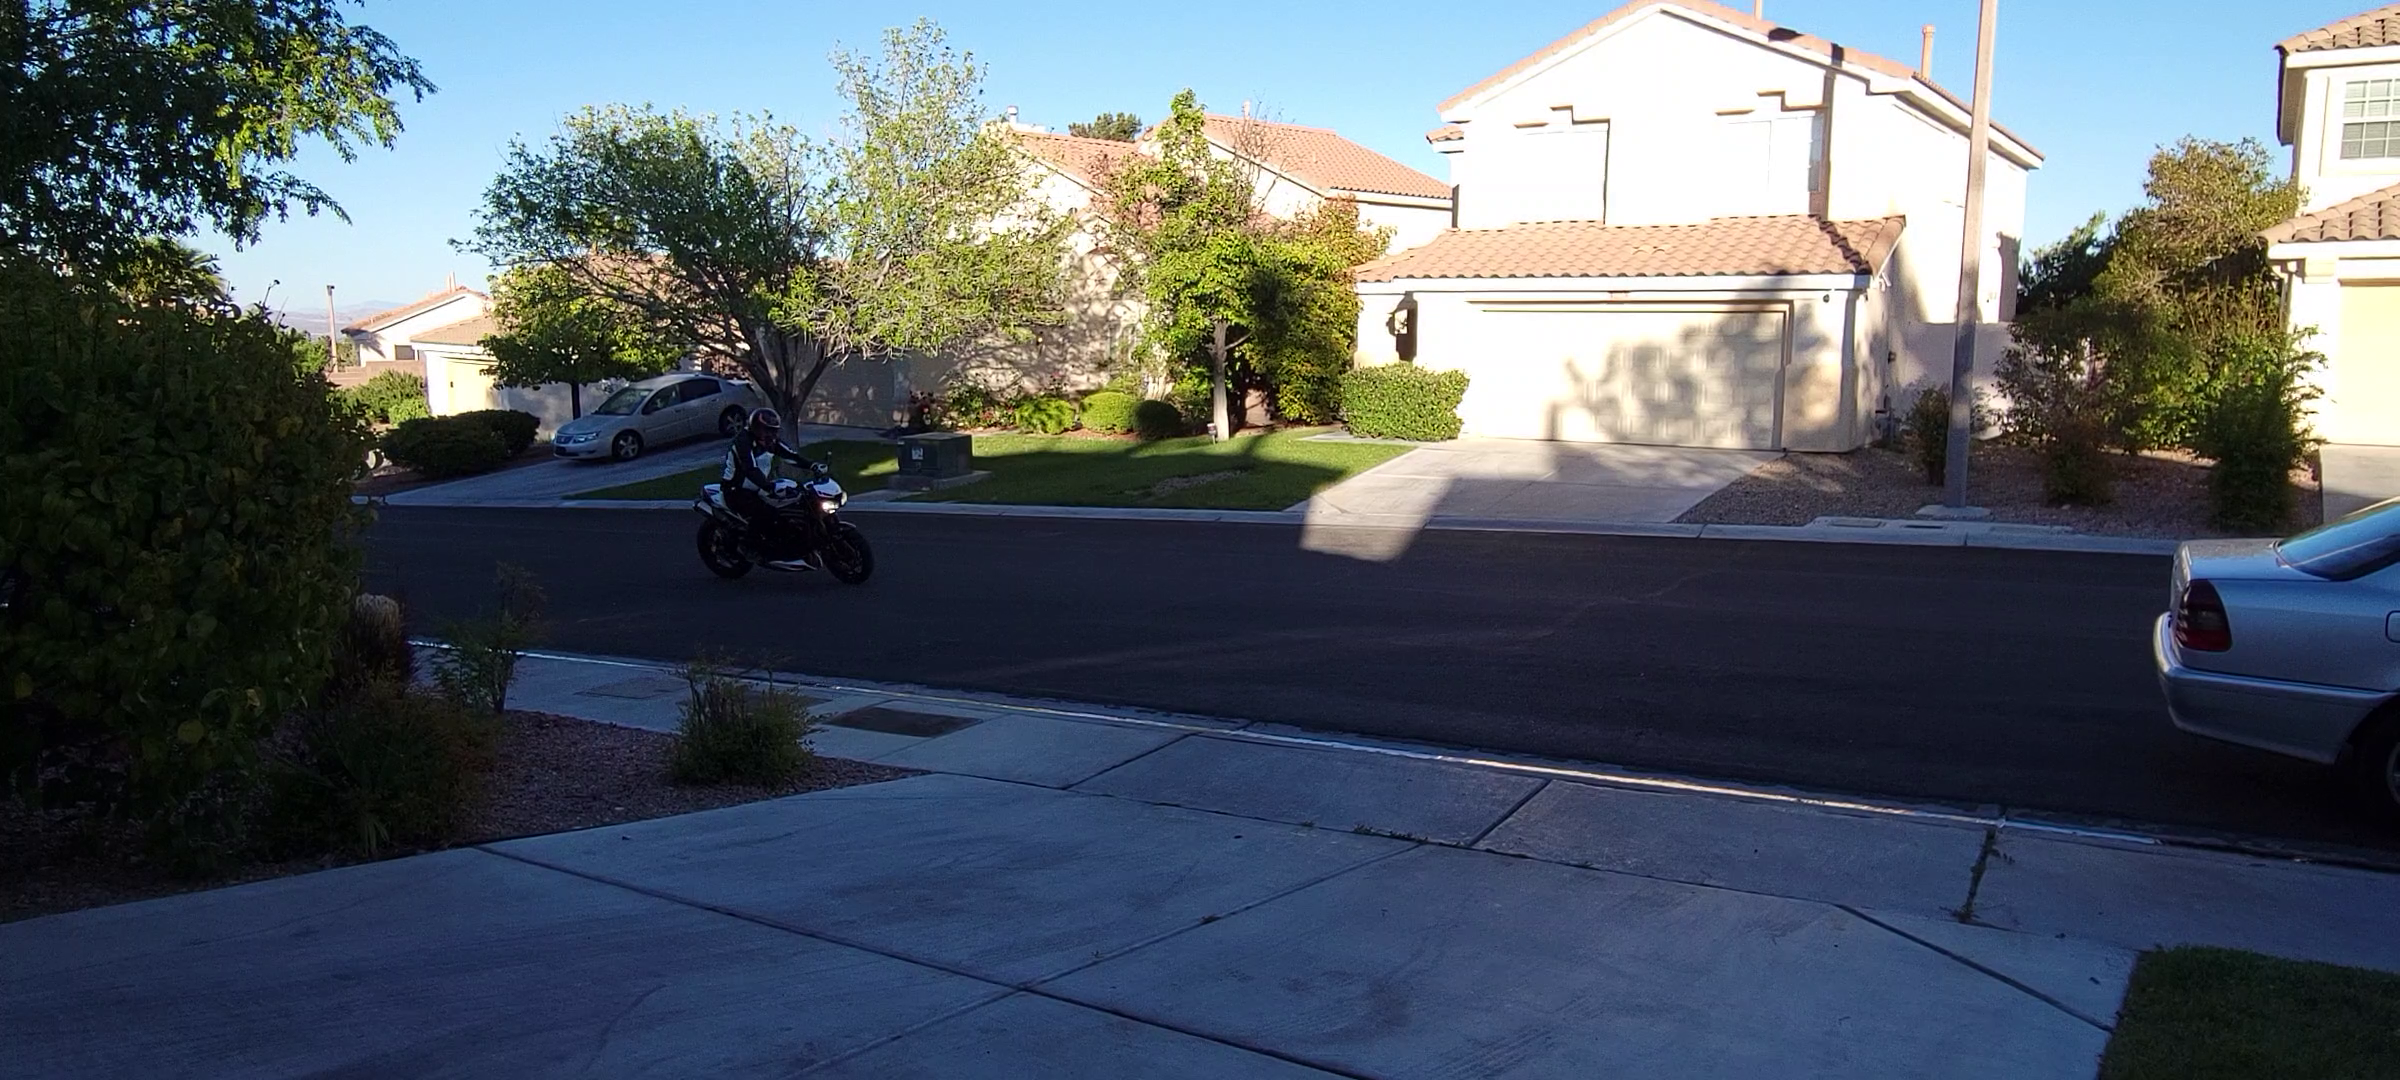other bike: (693, 405, 879, 587)
